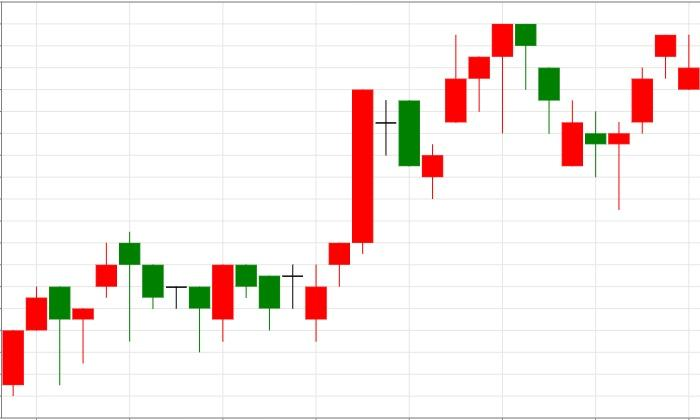hanging_man_fall: (422, 24, 513, 198)
